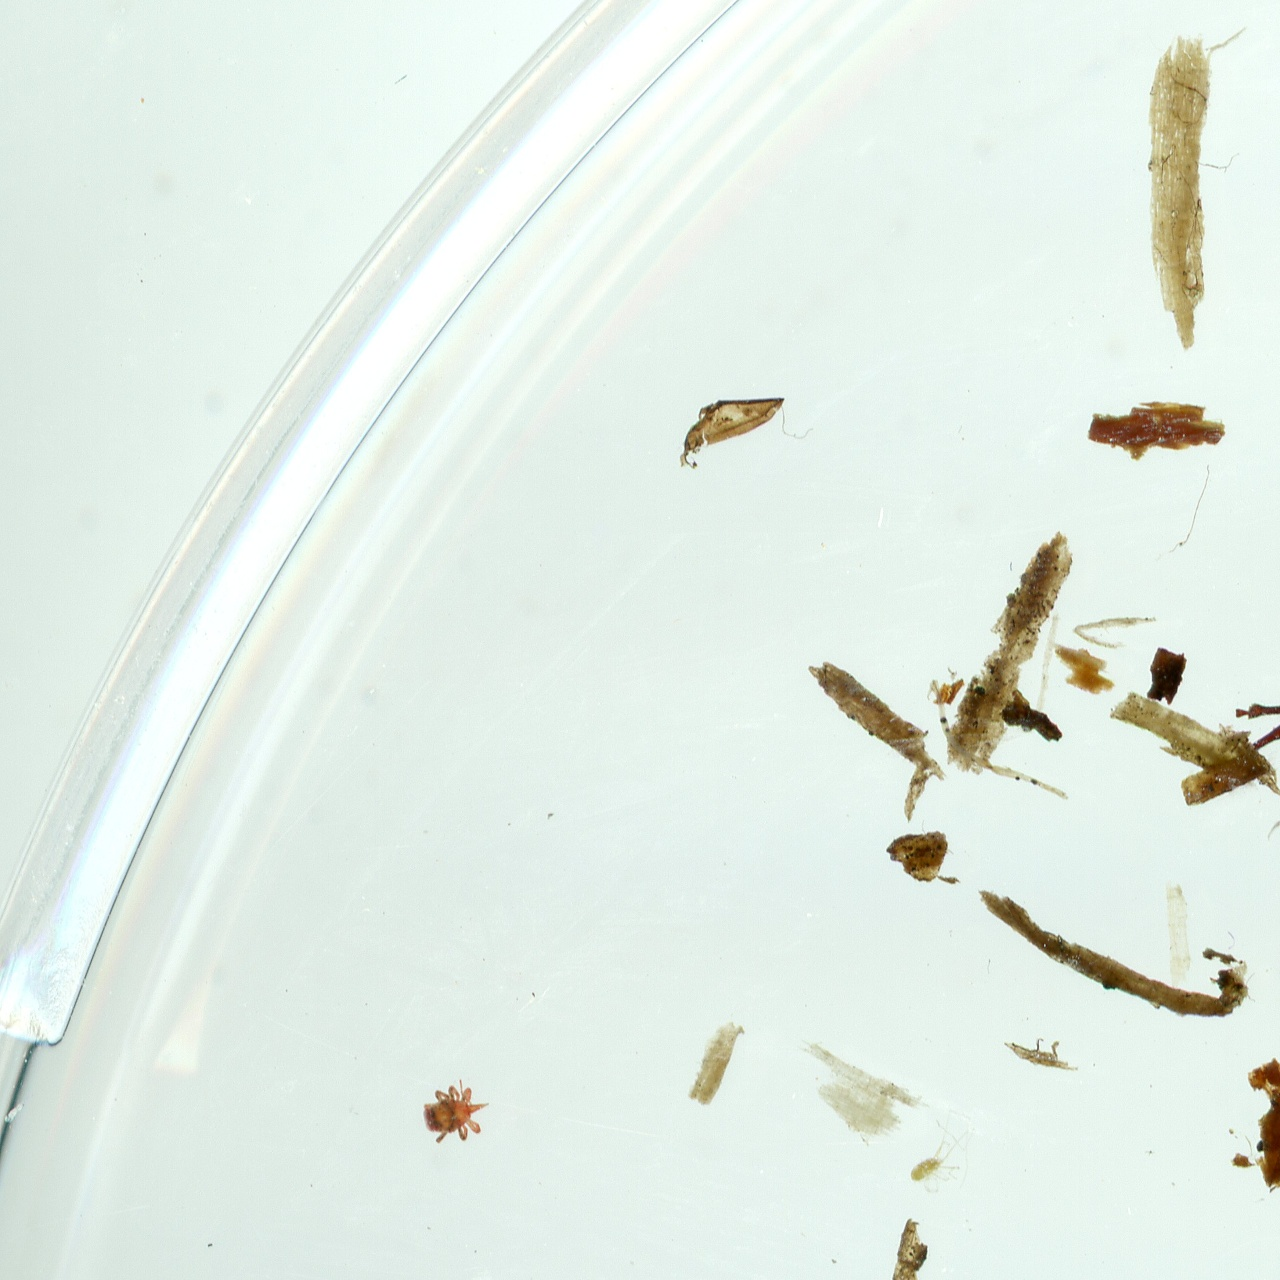arthropod: (907, 1103, 980, 1198), (420, 1077, 491, 1145), (1261, 777, 1280, 845)
